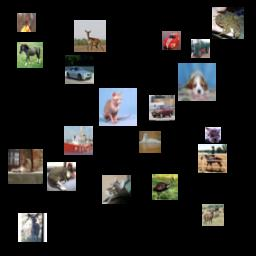automobile: (65, 55, 94, 84), (149, 95, 175, 121), (162, 31, 181, 50)
bird: (152, 174, 178, 200), (17, 13, 36, 32)
cat: (99, 88, 137, 126), (8, 149, 43, 184), (102, 175, 131, 204), (47, 162, 76, 191), (139, 131, 161, 153), (205, 127, 221, 143)
deer: (74, 20, 106, 52), (18, 213, 47, 242), (202, 204, 224, 226)
dog: (178, 63, 216, 101)
frog: (212, 7, 244, 39)
ship: (64, 126, 93, 155)
truck: (191, 39, 210, 58)
